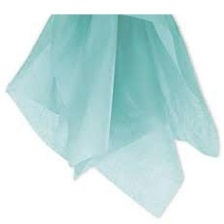tissue: (1, 10, 224, 221)
